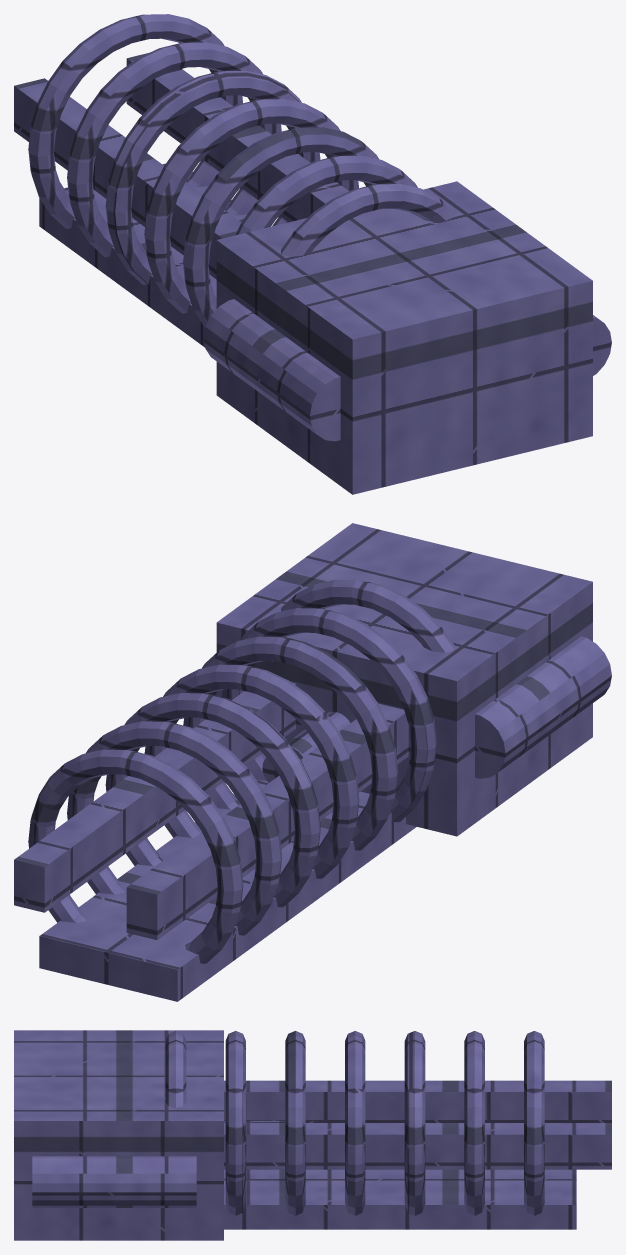
Rendered from railgun_pod.glb.
3 renders of one model, top to bottom at view 1: azimuth 30°, elevation 25°; view 2: azimuth 150°, elevation 25°; view 3: azimuth 270°, elevation 25°, orthographic. The views are drawn at different scales.
Parts seen in each view (by area): view 1: power_housing, capacitor_left, field_coil_5, field_coil_6, field_coil_4, field_coil_3, field_coil_2, rail_0, rail_1, lower_spine, field_coil_0, field_coil_1 (+1 smaller); view 2: power_housing, lower_spine, rail_1, rail_0, field_coil_6, field_coil_5, capacitor_left, field_coil_4, field_coil_3, field_coil_2, field_coil_1, field_coil_0 (+1 smaller); view 3: power_housing, lower_spine, rail_1, rail_0, capacitor_right, field_coil_4, field_coil_3, field_coil_5, field_coil_6, field_coil_1, field_coil_2, field_coil_0.
Part boxes in pixels (x1=…): power_housing: x1=216, y1=181, x2=592, y2=494; capacitor_left: x1=203, y1=299, x2=340, y2=441; field_coil_5: x1=67, y1=42, x2=281, y2=256; field_coil_6: x1=28, y1=14, x2=242, y2=228; field_coil_4: x1=105, y1=70, x2=320, y2=285; field_coil_3: x1=144, y1=99, x2=358, y2=313; field_coil_2: x1=183, y1=127, x2=379, y2=327; rail_0: x1=14, y1=78, x2=241, y2=279; rail_1: x1=126, y1=53, x2=348, y2=222; lower_spine: x1=39, y1=163, x2=246, y2=347; field_coil_0: x1=281, y1=184, x2=454, y2=256; field_coil_1: x1=235, y1=155, x2=417, y2=235; power_housing: x1=216, y1=523, x2=592, y2=836; lower_spine: x1=39, y1=780, x2=416, y2=1001; rail_1: x1=14, y1=682, x2=295, y2=912; rail_0: x1=126, y1=703, x2=408, y2=940; field_coil_6: x1=28, y1=749, x2=243, y2=963; field_coil_5: x1=67, y1=721, x2=281, y2=935; capacitor_left: x1=475, y1=636, x2=611, y2=778; field_coil_4: x1=105, y1=693, x2=320, y2=907; field_coil_3: x1=144, y1=664, x2=359, y2=879; field_coil_2: x1=183, y1=636, x2=397, y2=850; field_coil_1: x1=222, y1=608, x2=436, y2=822; field_coil_0: x1=281, y1=579, x2=454, y2=652; power_housing: x1=14, y1=1030, x2=223, y2=1240; lower_spine: x1=224, y1=1169, x2=576, y2=1229; rail_1: x1=224, y1=1123, x2=611, y2=1169; rail_0: x1=224, y1=1080, x2=611, y2=1122; capacitor_right: x1=32, y1=1156, x2=196, y2=1207; field_coil_4: x1=404, y1=1031, x2=425, y2=1215; field_coil_3: x1=345, y1=1031, x2=365, y2=1215; field_coil_5: x1=464, y1=1031, x2=484, y2=1215; field_coil_6: x1=524, y1=1031, x2=544, y2=1215; field_coil_1: x1=225, y1=1031, x2=245, y2=1215; field_coil_2: x1=285, y1=1031, x2=305, y2=1215; field_coil_0: x1=165, y1=1031, x2=186, y2=1107.
Bounding box in the file's own units: 1.18 × 0.8255 × 2.62.
1 material, 1 textured.
